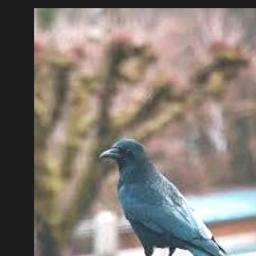Crow: (100, 138, 248, 256)
